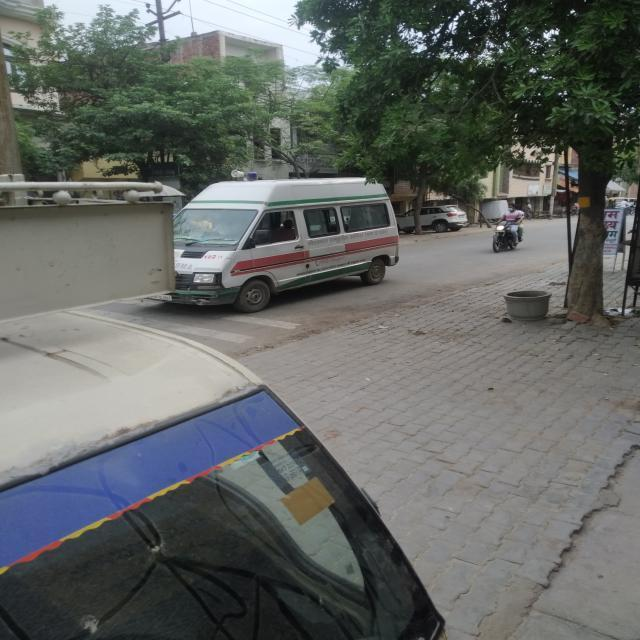car_front: (160, 171, 414, 323)
two_wheeler_front: (482, 213, 532, 256)
